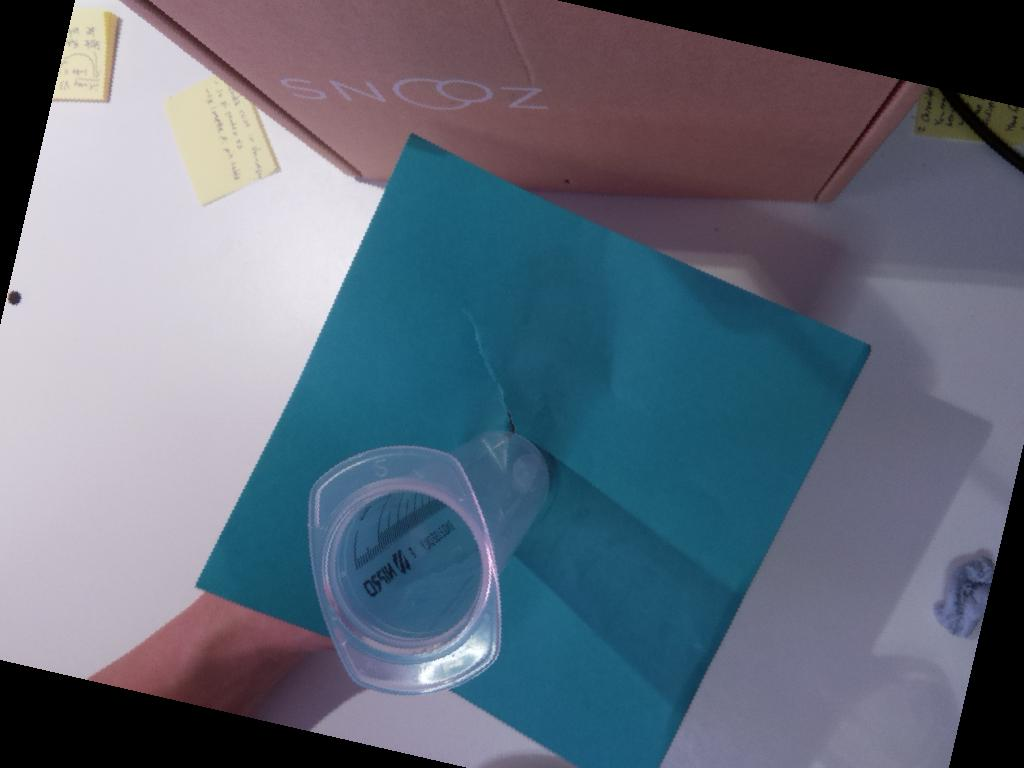clean: (305, 438, 505, 696)
